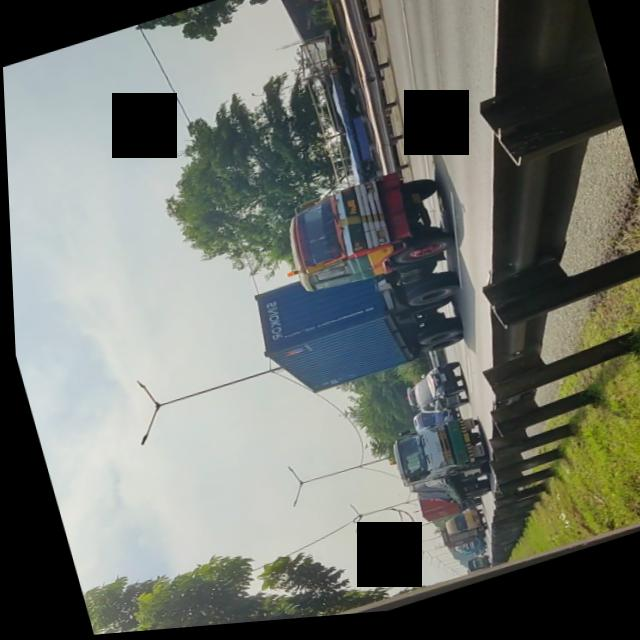Golongan IV: (234, 156, 487, 408)
